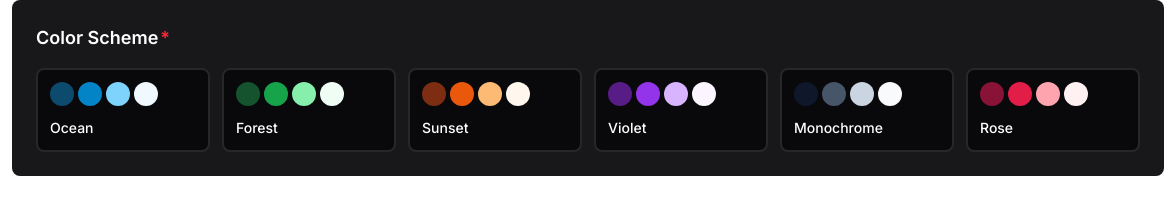
it: <ColorSchemeSection> › updates form state when a palette card is clicked
The image size is (1164, 215).
Click the label with test id "palette-card-forest". click: point(309, 110)
box: x1=222 y1=68 x2=396 y2=152
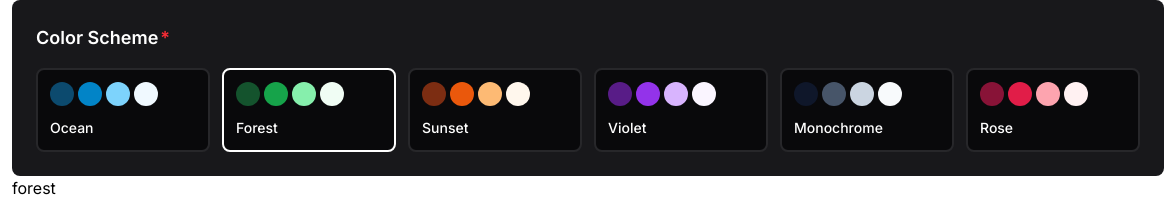
Check: the text with test id "value-palette" reads "forest", box x1=12 y1=178 x2=56 y2=198
Click the label with test id "palette-card-ocean". click: point(123, 110)
box: x1=36 y1=68 x2=210 y2=152
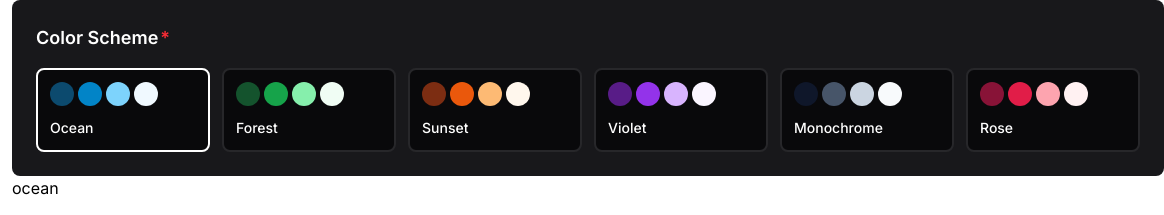
Check: the text with test id "value-palette" reads "ocean", box x1=12 y1=178 x2=59 y2=198
